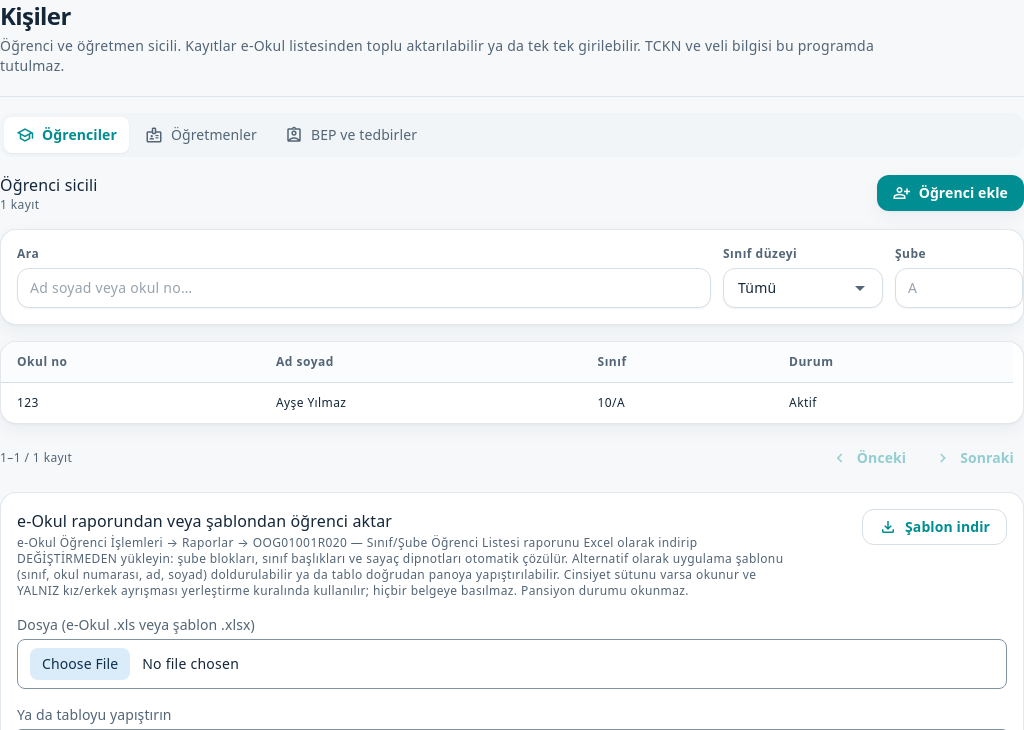
KisilerPage — öğrenci ekleme/düzenleme/silme › satıra tıklama düzenleme formunu açar; alanlar dolu gelir
The image size is (1024, 730).
Expected: the text "Ayşe Yılmaz" is shown, [260, 382, 582, 423]
Step 1. Click the button with aria-label "Ayşe Yılmaz kaydını düzenle" → point(311, 402), box [1, 382, 1013, 423]
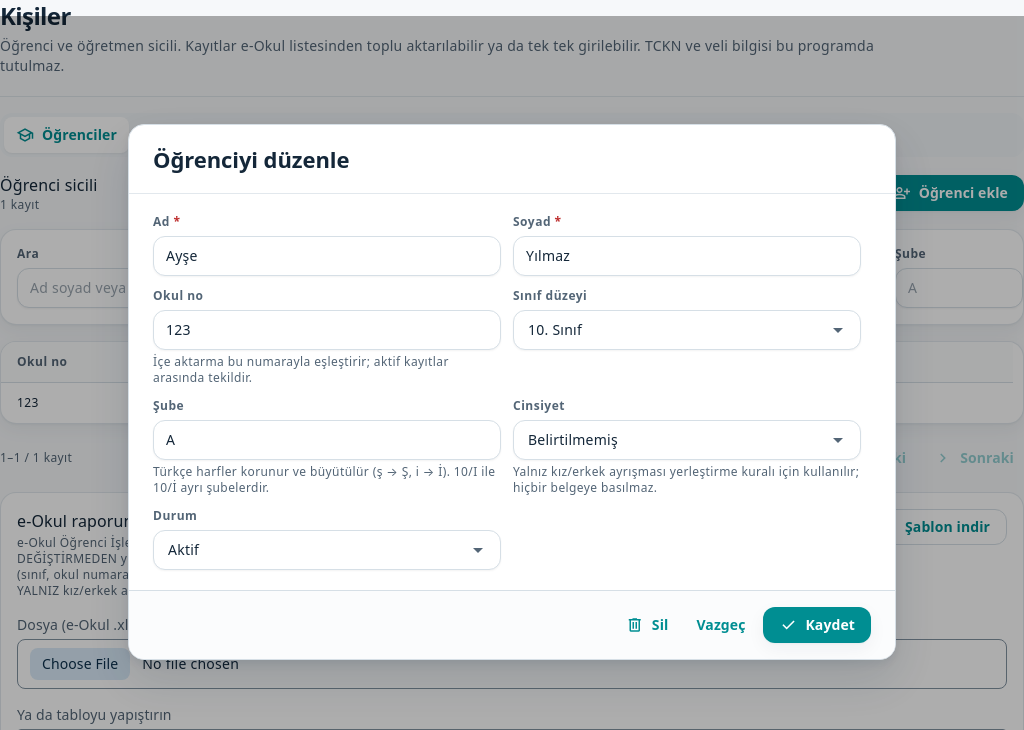
Expected: the field labelled "Okul no" holds "123", [166, 320, 488, 340]
